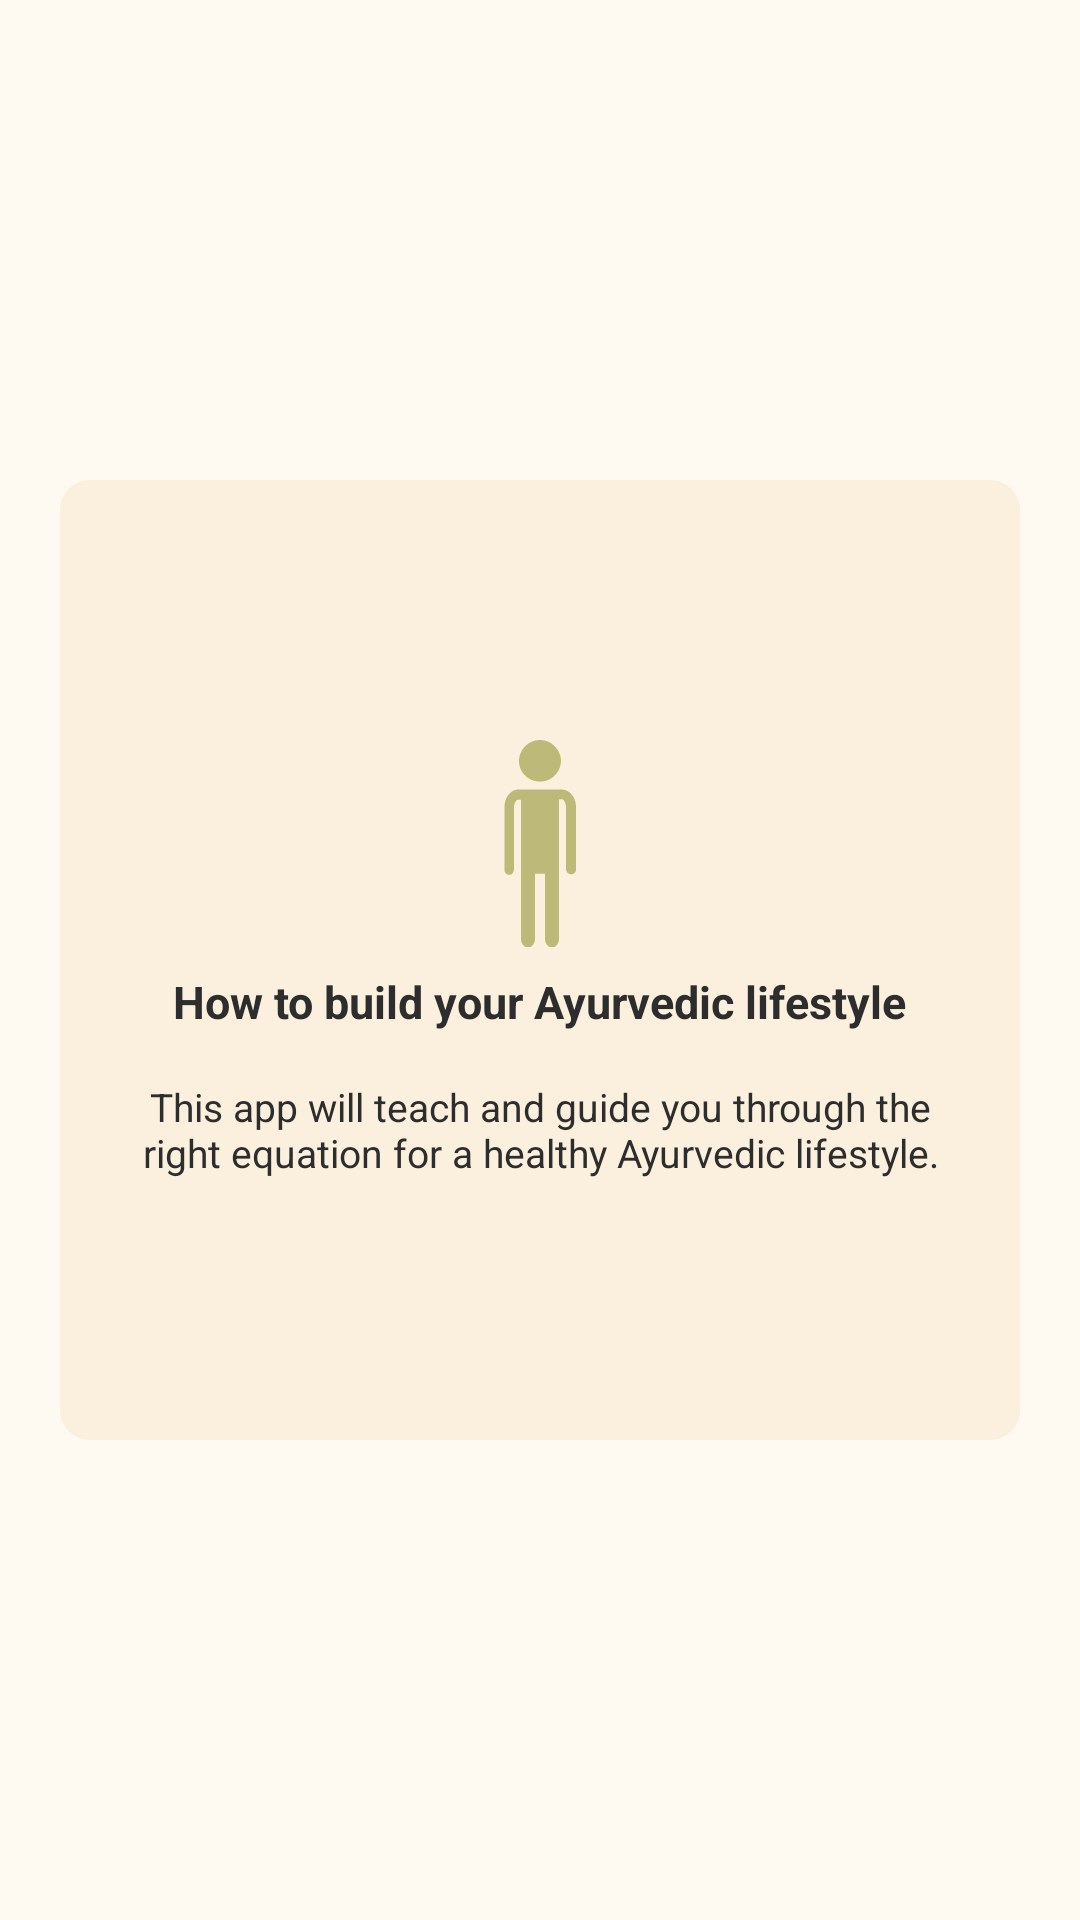

Icon click points for this 1080 × 1920 phone screenshot, format (x,y):
human: (540,843)
